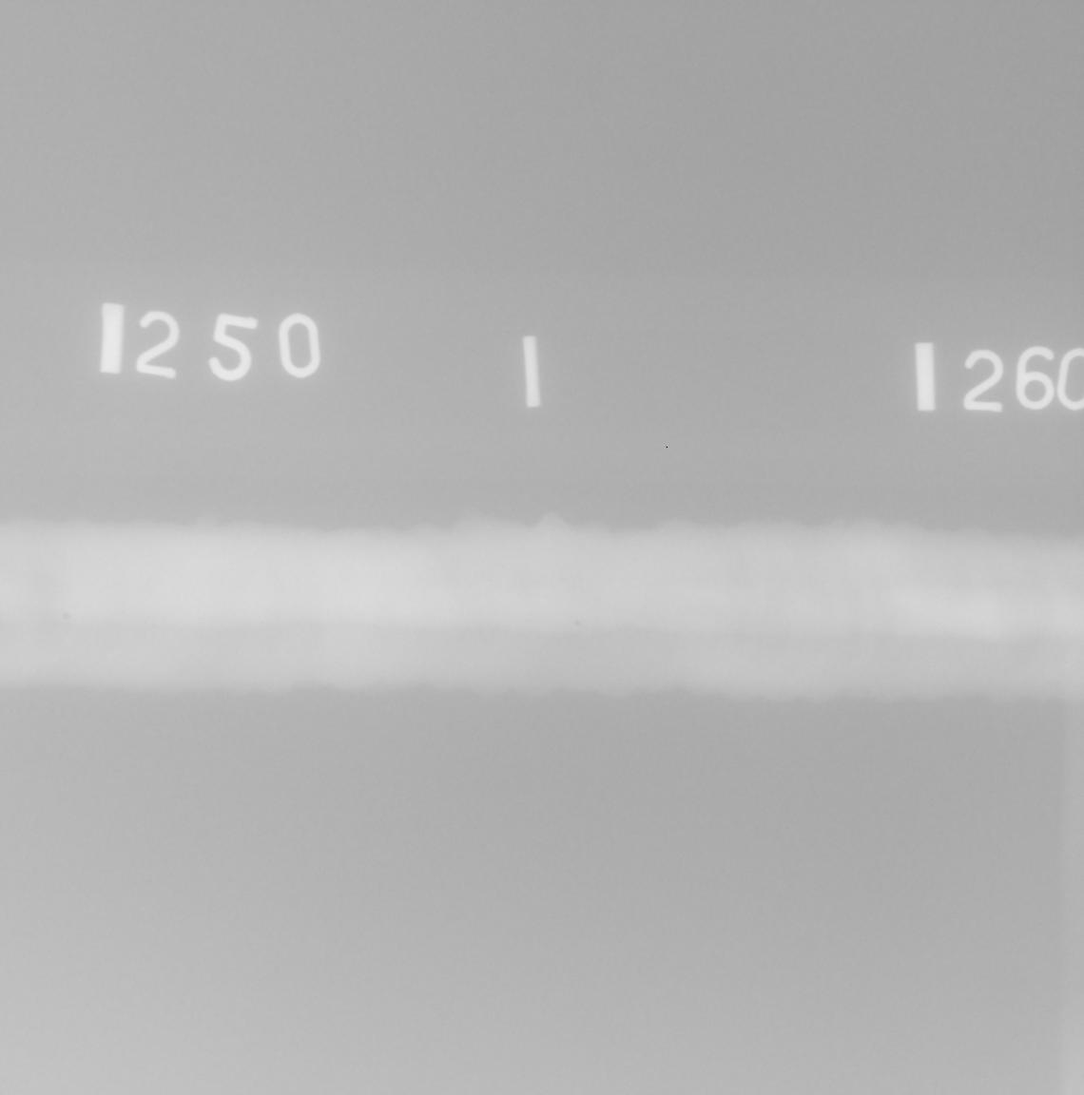Pore/Porosity: (63, 613, 70, 619), (575, 621, 580, 626)
